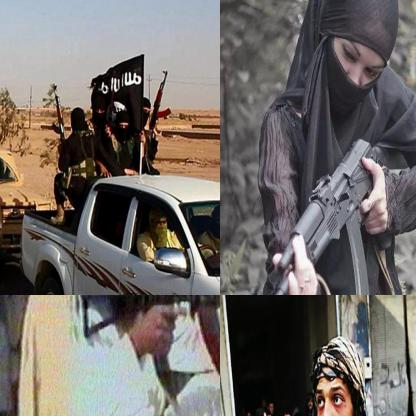rifle: (239, 138, 386, 294), (220, 317, 389, 415), (81, 295, 219, 388), (149, 67, 173, 140), (46, 80, 66, 142)
